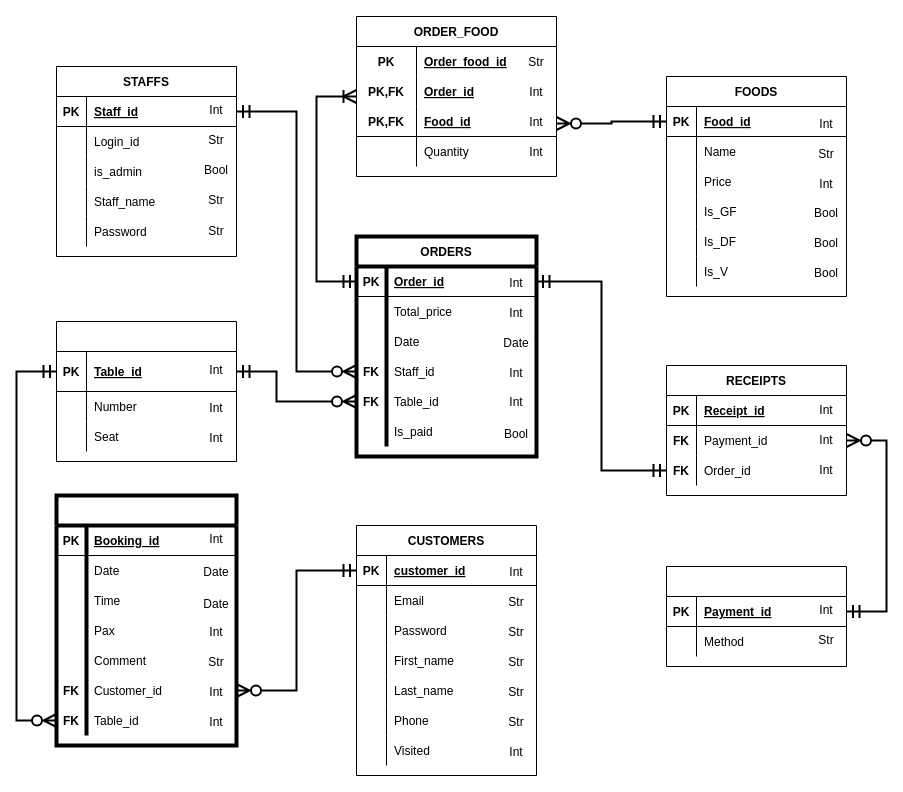
Some shapes in this 903 by 792 pixel diagram are drawn without their labels. Each missing label, with the box of its shape:
BOOKINGS: (54, 493, 238, 747)
PAYMENTS: (666, 566, 846, 666)
TABLES: (56, 320, 236, 462)
